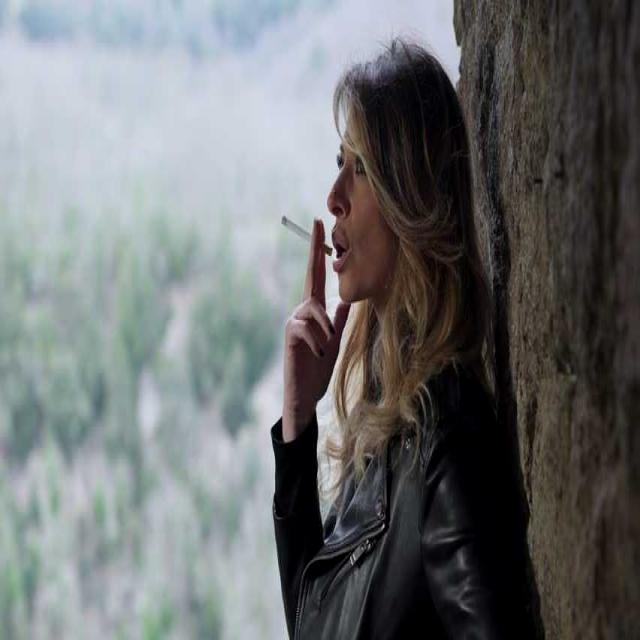Smooking: (276, 212, 337, 263)
